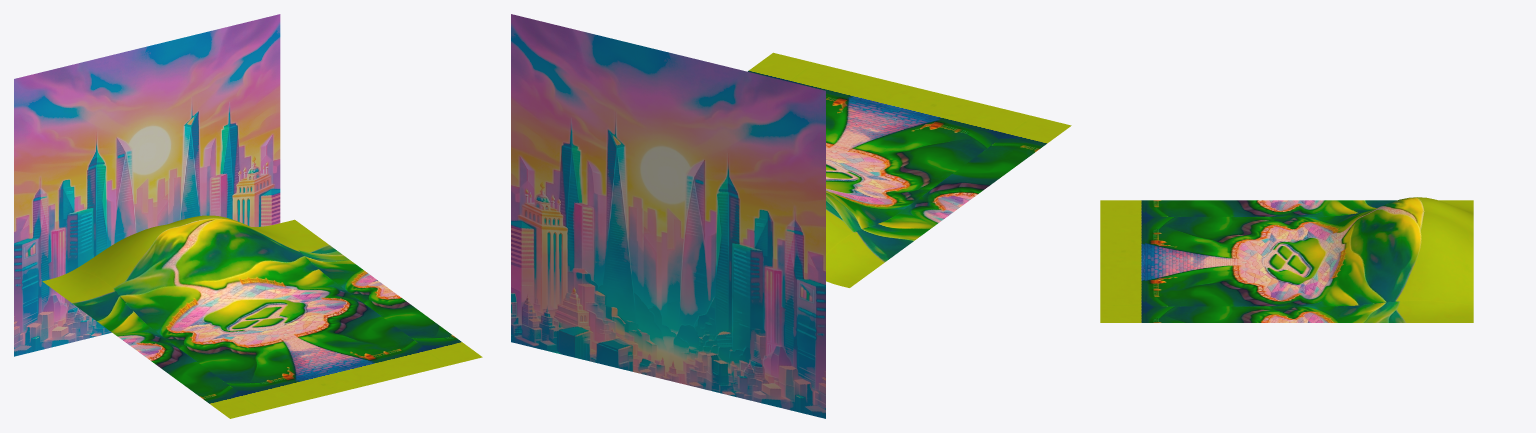
File: Hub.fbx
The picture shows the model from 3 angles, left to right: view 1: azimuth 30°, elevation 25°; view 2: azimuth 150°, elevation 25°; view 3: azimuth 270°, elevation 25°; orthographic projection. The views are drawn at different scales.
Parts seen in each view (by area): view 1: Fondo, Piso; view 2: Fondo, Piso; view 3: Piso.
Part boxes in pixels (box(x1,y1,x2,y2)): Fondo: box(14, 14, 280, 356); Piso: box(42, 215, 482, 418); Fondo: box(511, 14, 825, 418); Piso: box(748, 52, 1071, 287); Piso: box(1100, 197, 1473, 322).
Size of the model in its own units: 265 by 264 by 365.
